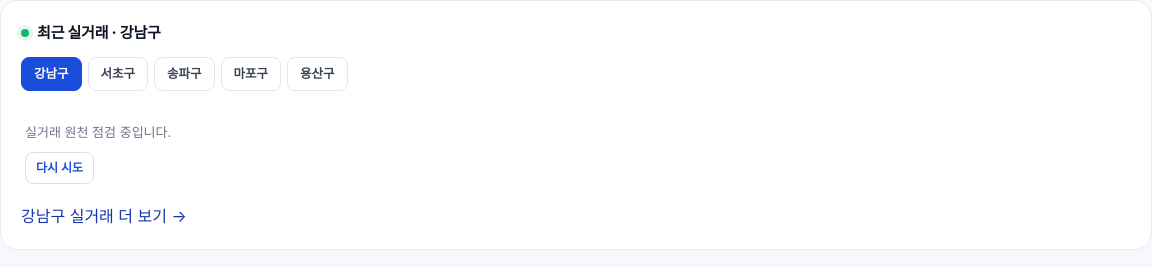
RecentDealsCard › API 오류를 표본으로 덮지 않고 재시도 후 실제 응답만 표시한다
The image size is (1152, 267).
Expected: the message "실거래 원천 점검 중입니다. 다시 시도" is shown, [25,124,171,184]
Click the button "다시 시도" at (60, 168), box [25,152,94,184]
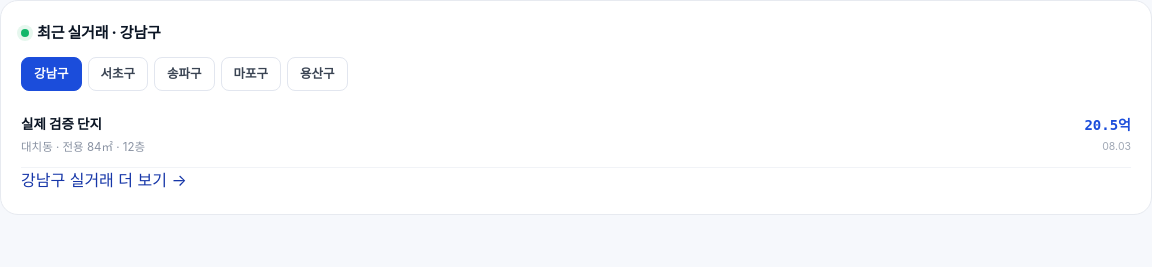
Now the text "실제 검증 단지" is shown, box [21,116,102,132]
Now the text "20.5억" is shown, box [1084,114,1131,137]
Now the text "대치동 · 전용 84㎡ · 12층" is shown, box [21,138,145,156]
